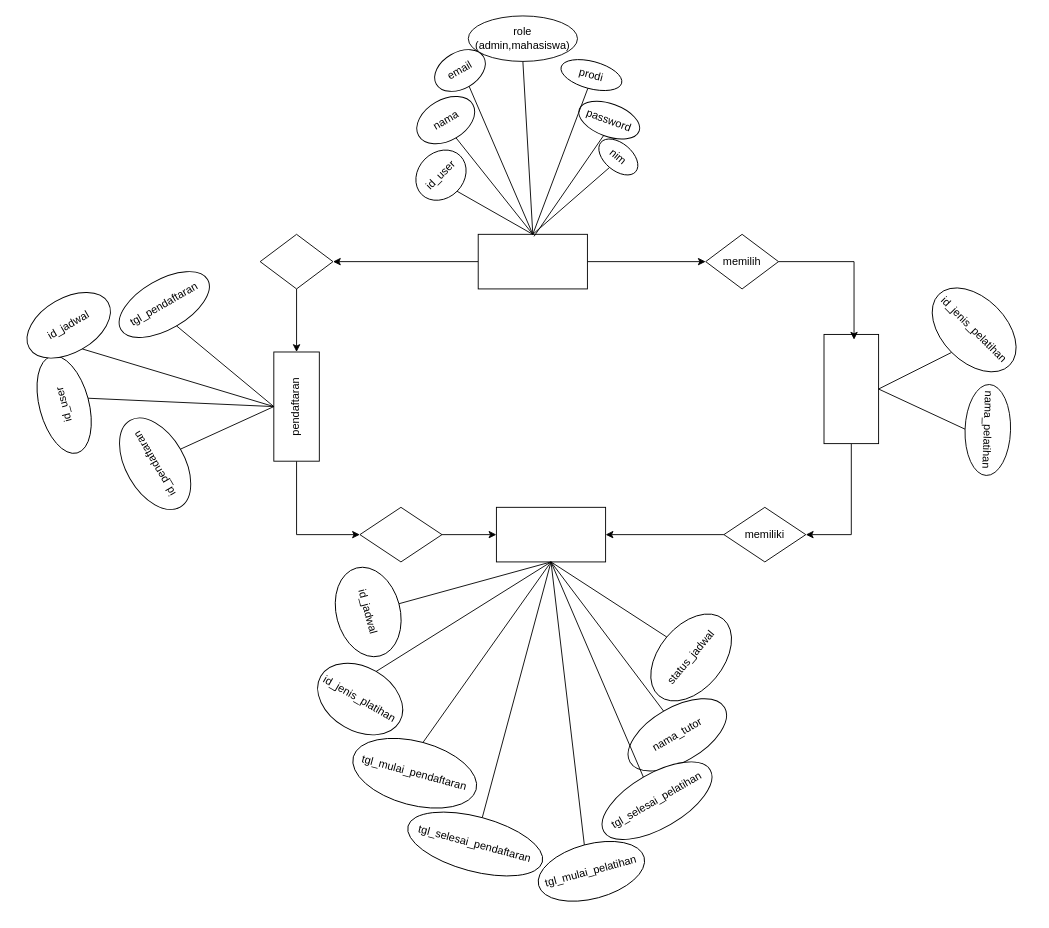
Some shapes in this 1049 by 928 pixel diagram are drawn without their labels. Each missing label, with the centre of its shape:
"jadwal" goes at (550,534).
"jenis pelatihan" goes at (851,389).
"melakukan" goes at (296,261).
"mempunyai" goes at (400,534).
"user" goes at (532,261).
